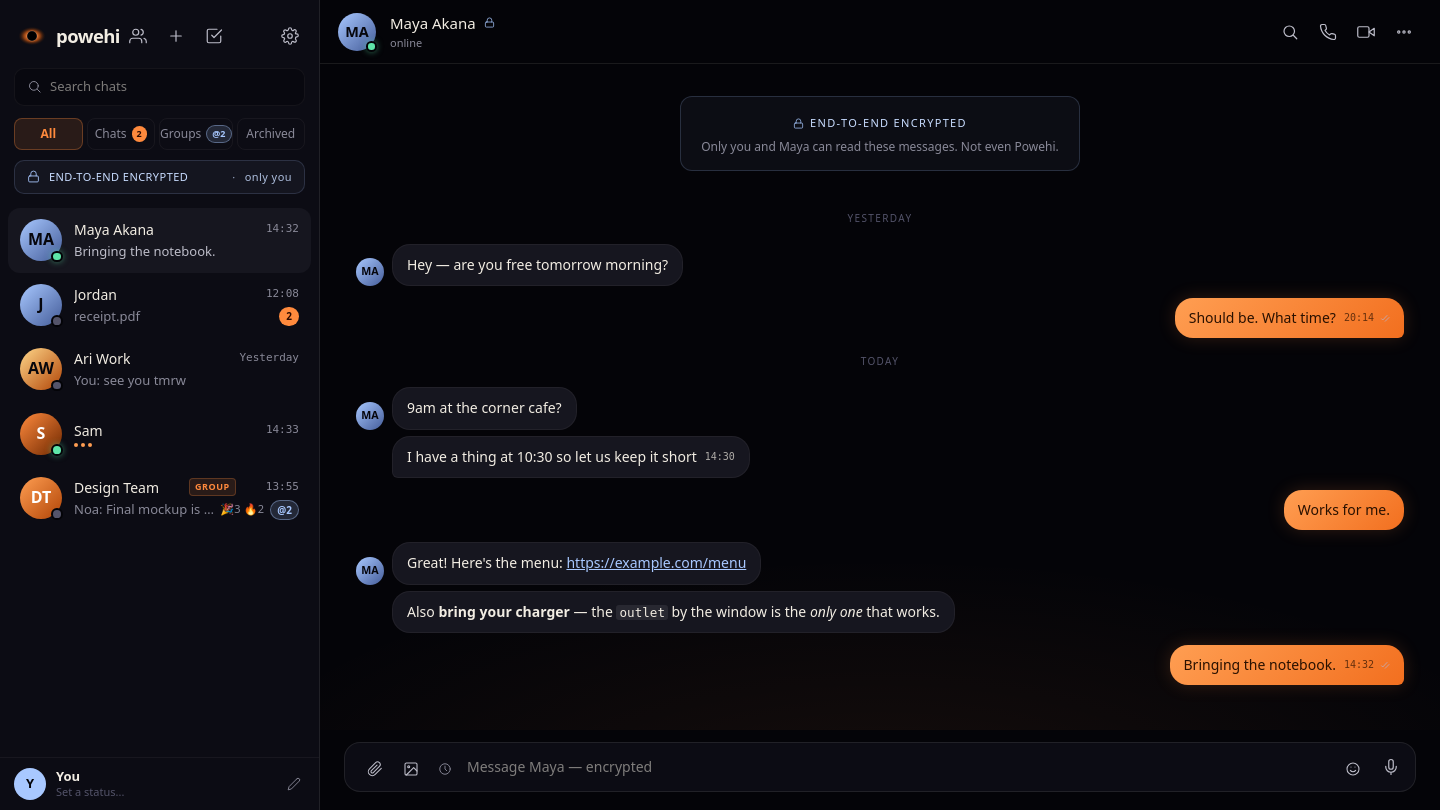
Test case: ChatLayout — group poll feature › clicking poll button opens the poll creator popup
This screenshot has width=1440, height=810.
Click the button "DT Design Team GROUP 13:55 Noa: Final mockup is up 🎉3 🔥2 @2" at [160, 498], box [8,466,311,530]
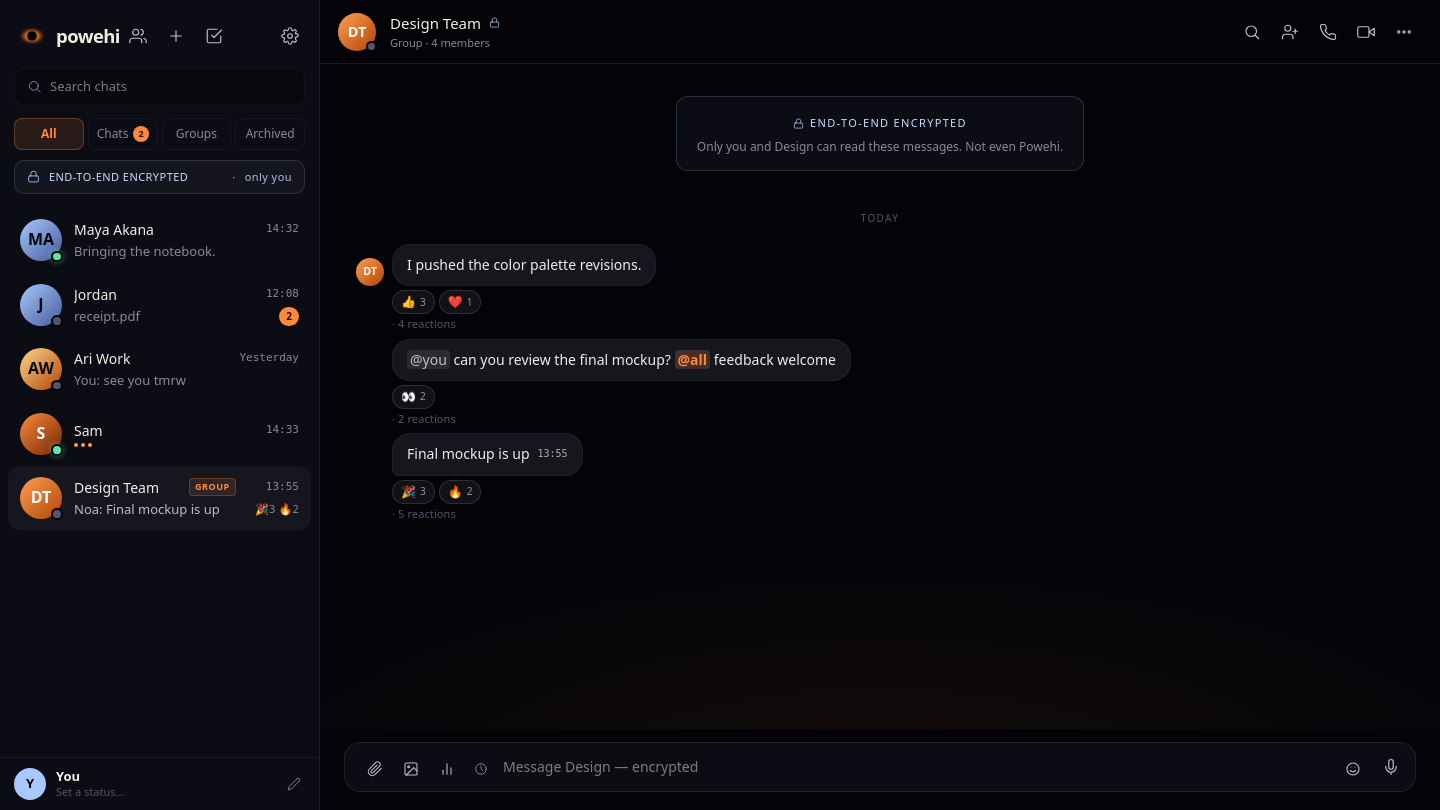
Click the button named "Create poll" at [447, 769], box [431,753,463,785]
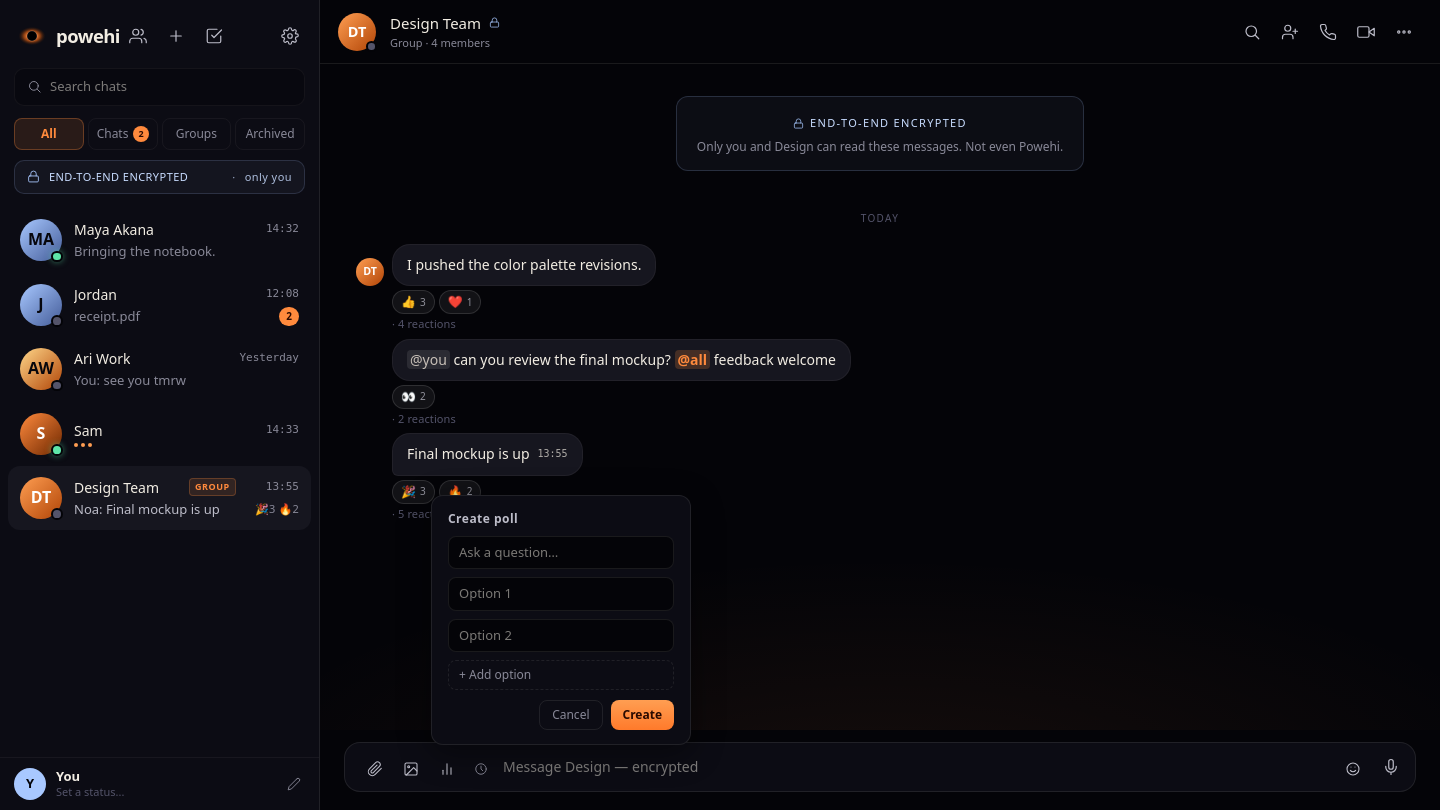
Now the element with test id "poll-creator" is shown, box [431,494,691,745]
